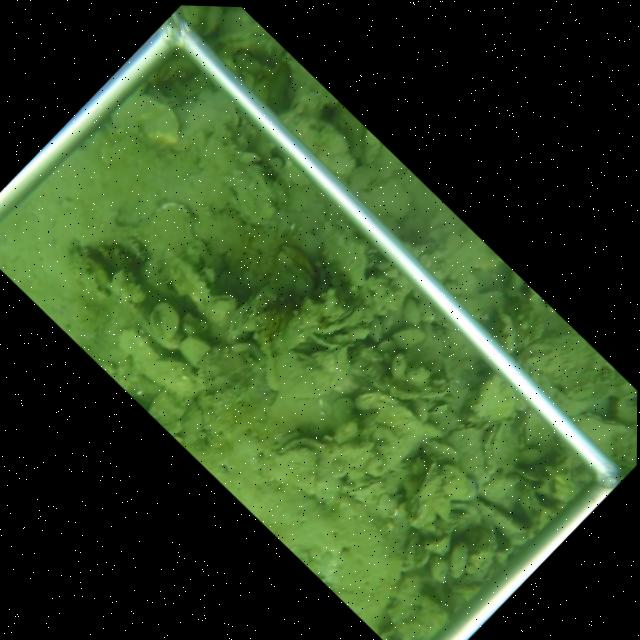Oyster-Closed: (263, 348, 349, 404), (406, 460, 453, 531), (363, 369, 455, 405), (229, 285, 278, 345), (571, 409, 632, 441), (307, 303, 362, 338), (339, 476, 384, 499), (517, 413, 535, 449)
Oyster-Indeterminate: (277, 107, 357, 180), (110, 93, 184, 150), (130, 355, 208, 403), (142, 198, 196, 256)
Oyster-Open: (479, 422, 518, 478)
